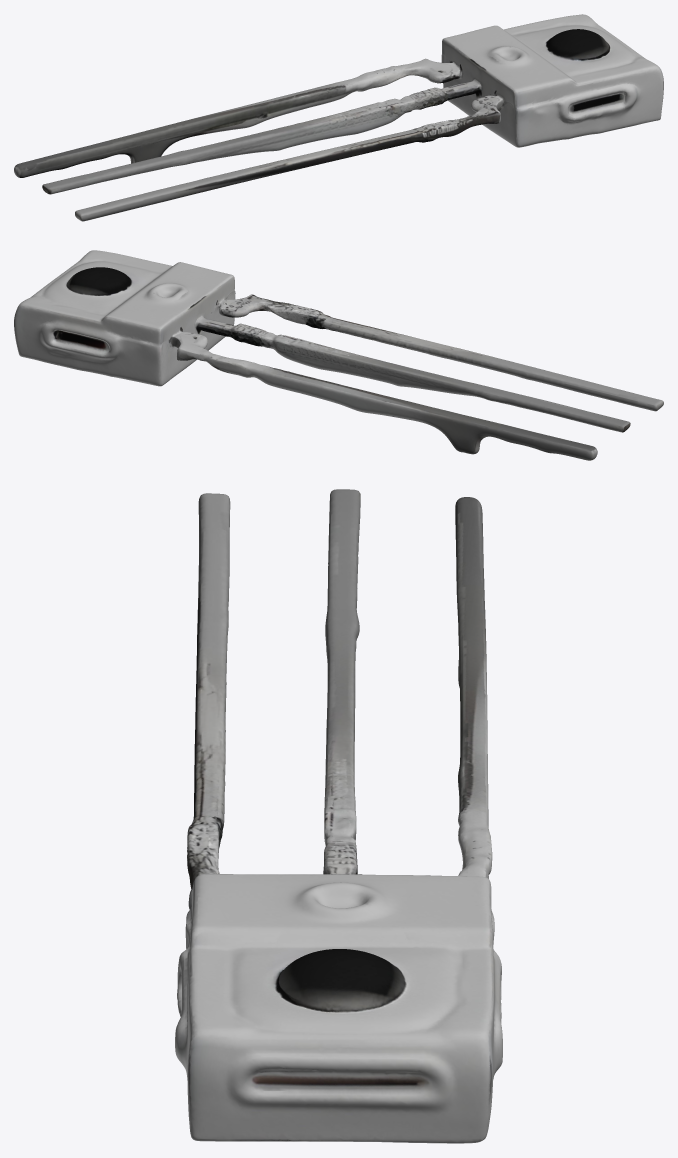
File: L.F. Sensor de Luz.glb
3 views of the same model, one above another, from view 1: azimuth 30°, elevation 25°; view 2: azimuth 150°, elevation 25°; view 3: azimuth 270°, elevation 25° (orthographic). The views are drawn at different scales.
Parts seen in each view (by area): view 1: tripo_node_5c7c2d0c-49d6-4c80-8786-f749e2d4065e; view 2: tripo_node_5c7c2d0c-49d6-4c80-8786-f749e2d4065e; view 3: tripo_node_5c7c2d0c-49d6-4c80-8786-f749e2d4065e.
Part boxes in pixels (left/top/right/bottom): tripo_node_5c7c2d0c-49d6-4c80-8786-f749e2d4065e: left=14, top=14, right=663, bottom=221; tripo_node_5c7c2d0c-49d6-4c80-8786-f749e2d4065e: left=14, top=250, right=663, bottom=460; tripo_node_5c7c2d0c-49d6-4c80-8786-f749e2d4065e: left=175, top=489, right=502, bottom=1143.
Bounding box in the file's own units: 1 × 0.1166 × 0.2447.
Materials: 1 (1 with a texture image).
